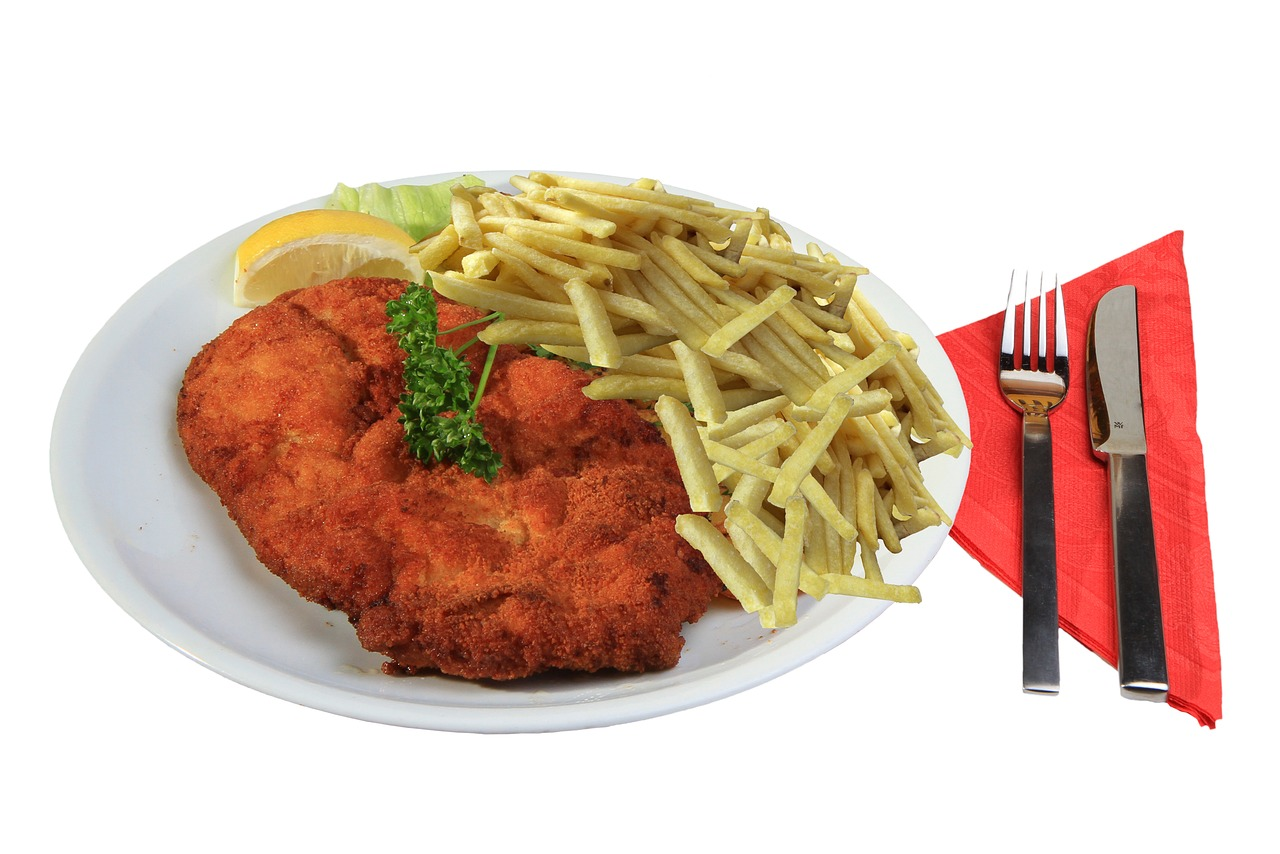knife: (1076, 280, 1176, 698)
